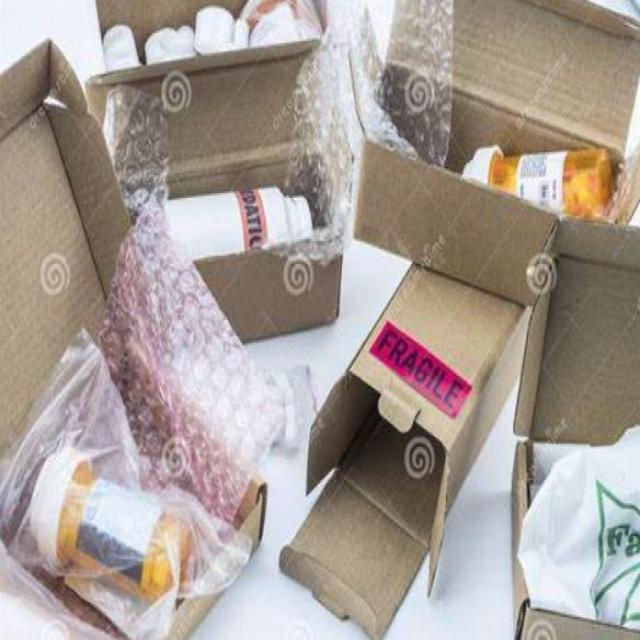dry: (271, 236, 532, 640), (31, 440, 196, 597), (143, 165, 324, 270)
